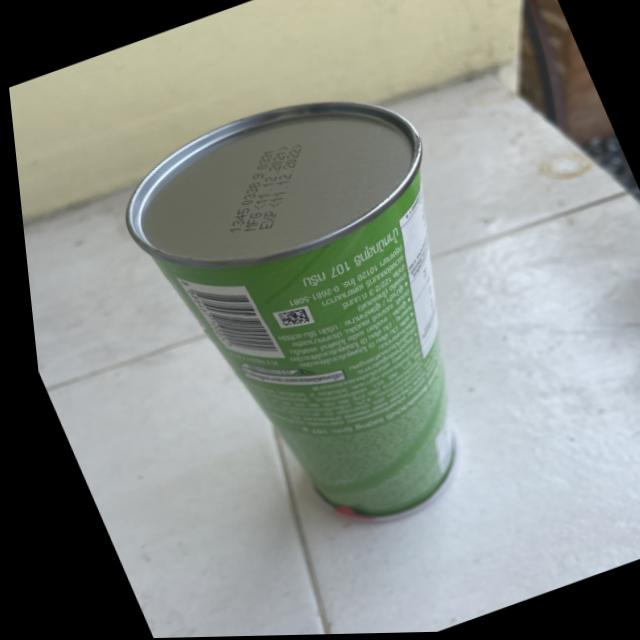a pringles: (82, 57, 565, 569)
